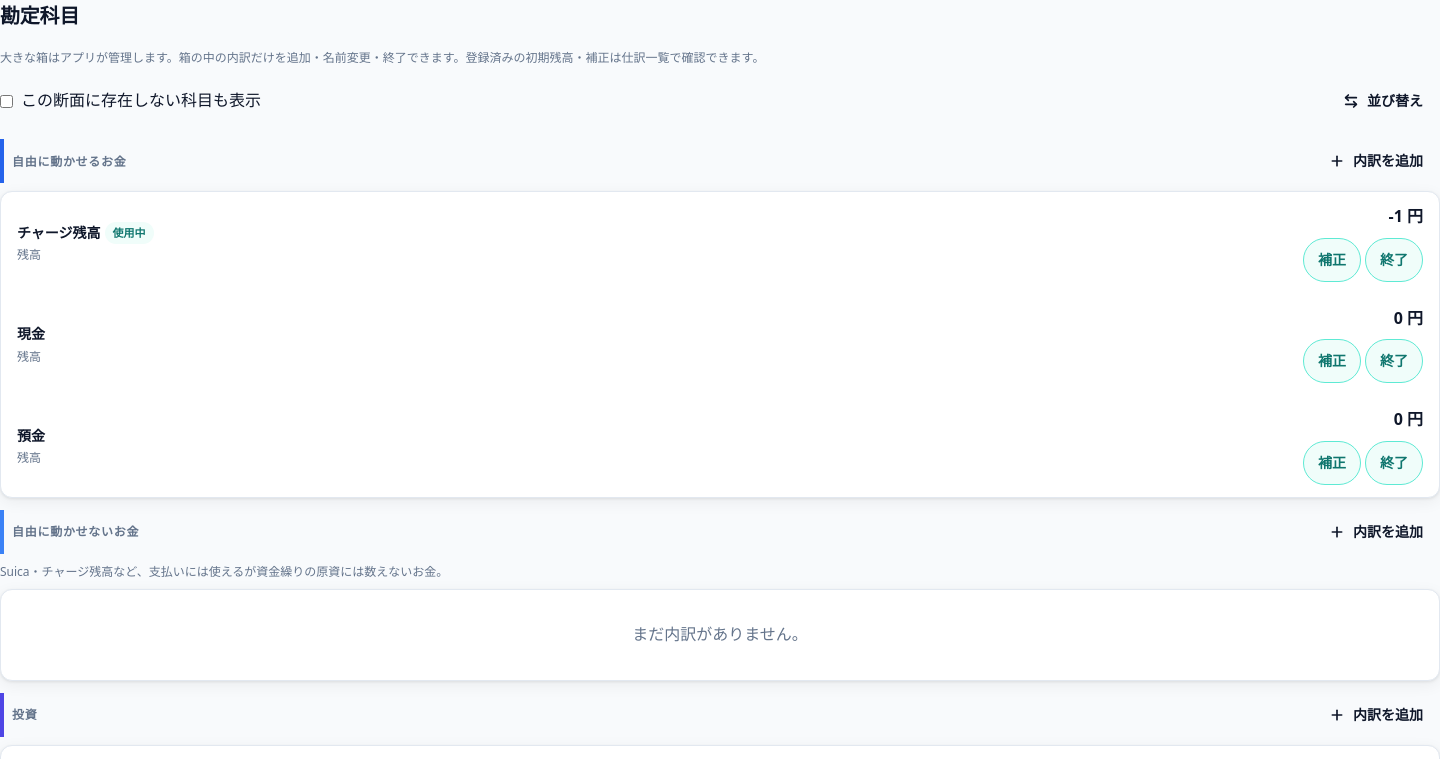
Test: 科目の削除（編集シート最下部） › 使用中の科目は件数つきで不活性（終了へ誘導）
What coordinates should you click on to do the following:
click the button with aria-label "編集: チャージ残高"
I would click on:
 (59, 232)
Its box is 1,192 -> 1439,294.
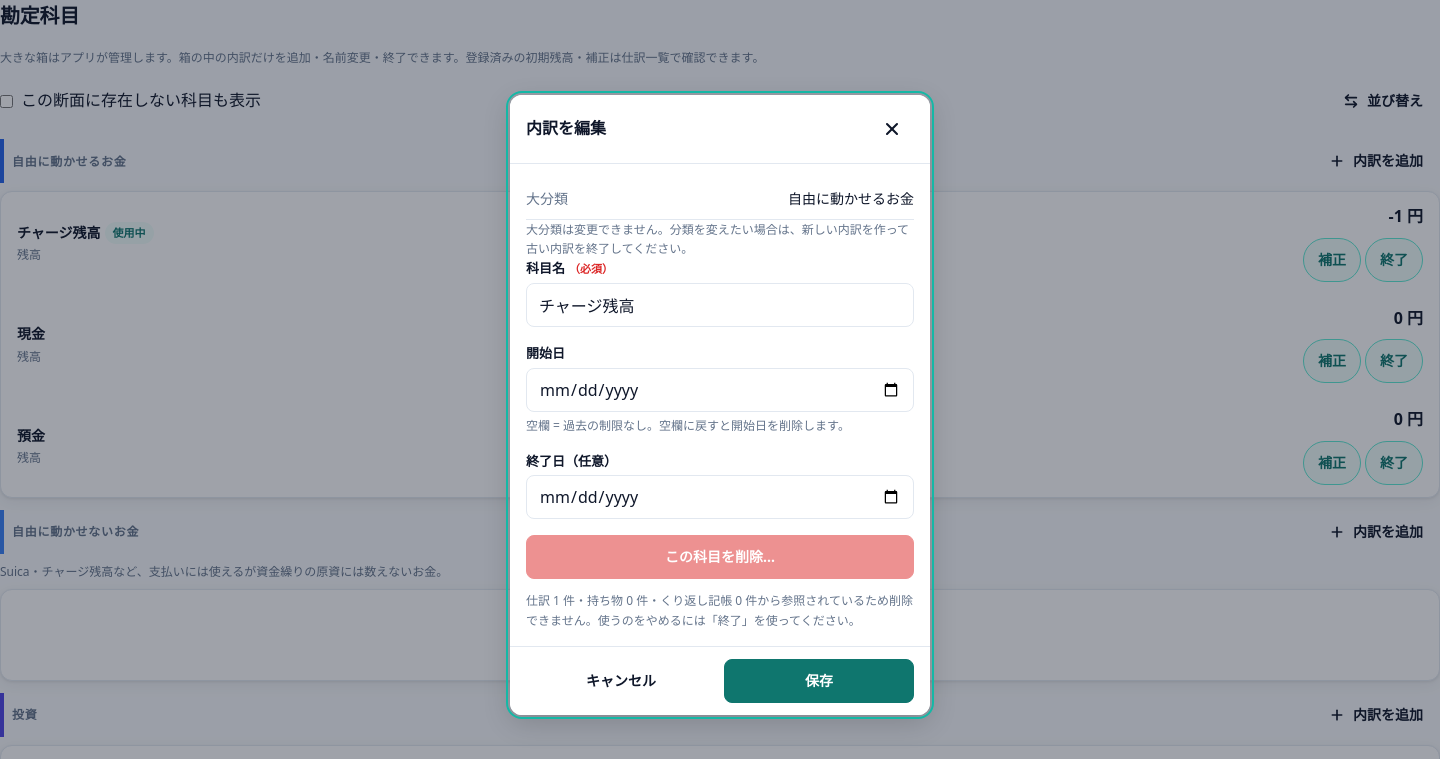
Expected: the text "「終了」を使ってください" is shown, 526,592 -> 913,629
